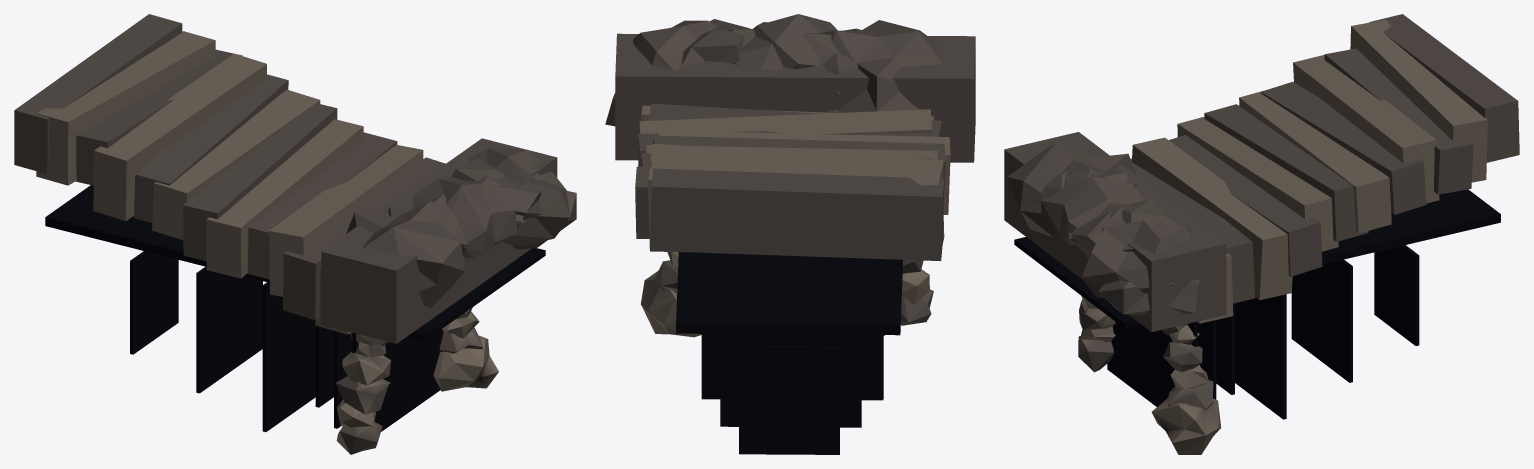
The model's file is coast_echo_grotto_lod1.glb.
3 views of the same model, side by side, from view 1: azimuth 30°, elevation 25°; view 2: azimuth 150°, elevation 25°; view 3: azimuth 270°, elevation 25° (orthographic). The views are drawn at different scales.
Parts seen in each view (by area): view 1: geometry_0; view 2: geometry_0; view 3: geometry_0.
Boxes of the visible parts, <box> form: geometry_0: <box>14,14,576,454</box>; geometry_0: <box>605,14,975,454</box>; geometry_0: <box>1004,14,1519,454</box>.
Bounding box in the file's own units: 49.42 × 32.86 × 54.4.
